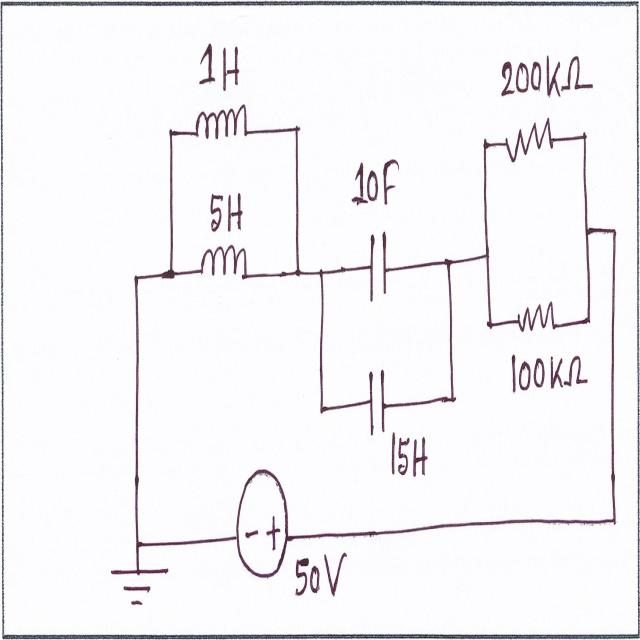capacitor: (364, 228, 392, 310), (361, 363, 390, 442)
ground: (110, 556, 170, 613)
inductor: (194, 236, 250, 296), (192, 101, 253, 155)
resistor: (501, 108, 558, 173), (509, 298, 559, 340)
voltage_source: (231, 456, 291, 590)
